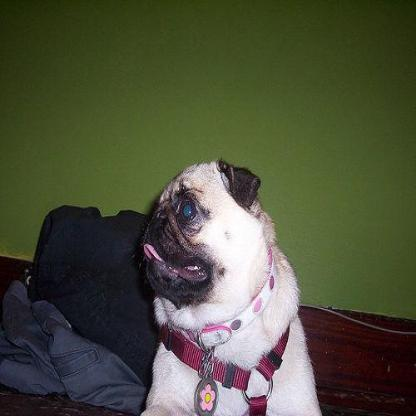pug: (130, 159, 320, 414)
